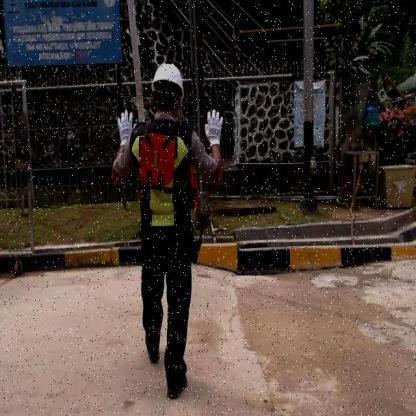boots: (162, 357, 196, 405), (139, 321, 163, 366)
gloves: (202, 106, 228, 144), (112, 110, 136, 149)
helmet: (148, 60, 188, 94)
vest: (138, 130, 188, 236)
